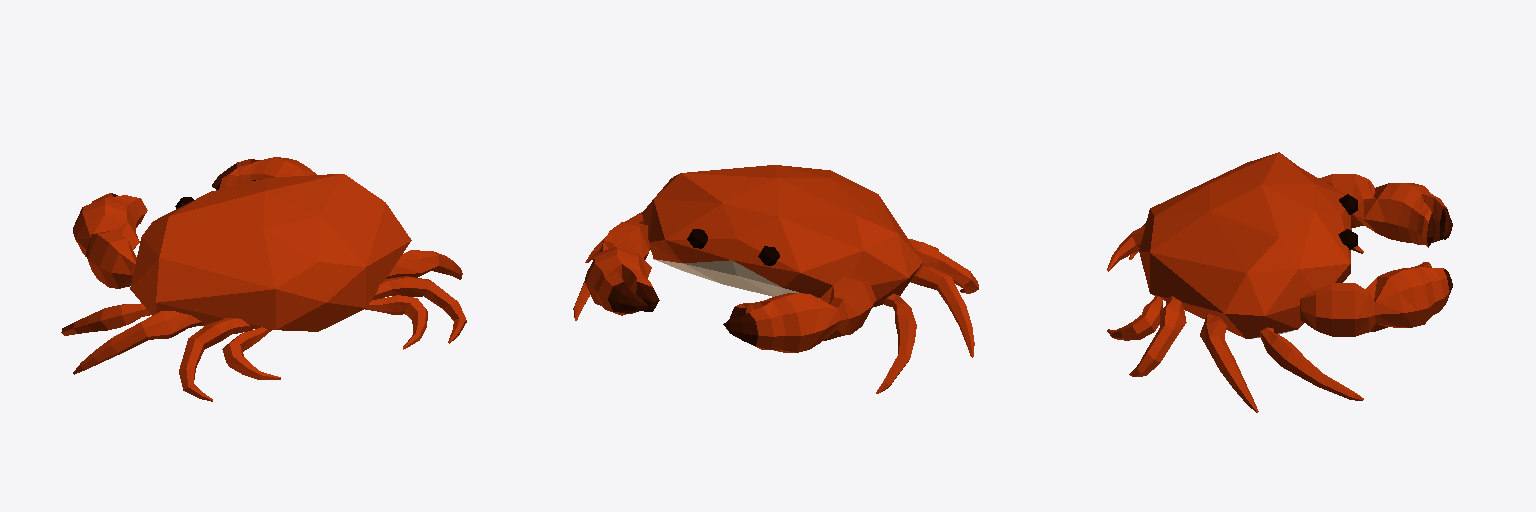
The model's file is NOVELO_CRAB.obj.
The picture shows the model from 3 angles: view 1: azimuth 30°, elevation 25°; view 2: azimuth 150°, elevation 25°; view 3: azimuth 270°, elevation 25°; orthographic projection.
Parts seen in each view (by area): view 1: Crab.1; view 2: Crab.1; view 3: Crab.1.
Boxes of the visible parts, x1=… form: Crab.1: x1=61, y1=157, x2=466, y2=401; Crab.1: x1=573, y1=165, x2=978, y2=393; Crab.1: x1=1107, y1=152, x2=1452, y2=412.
Bounding box in the file's own units: 780 × 273 × 602.